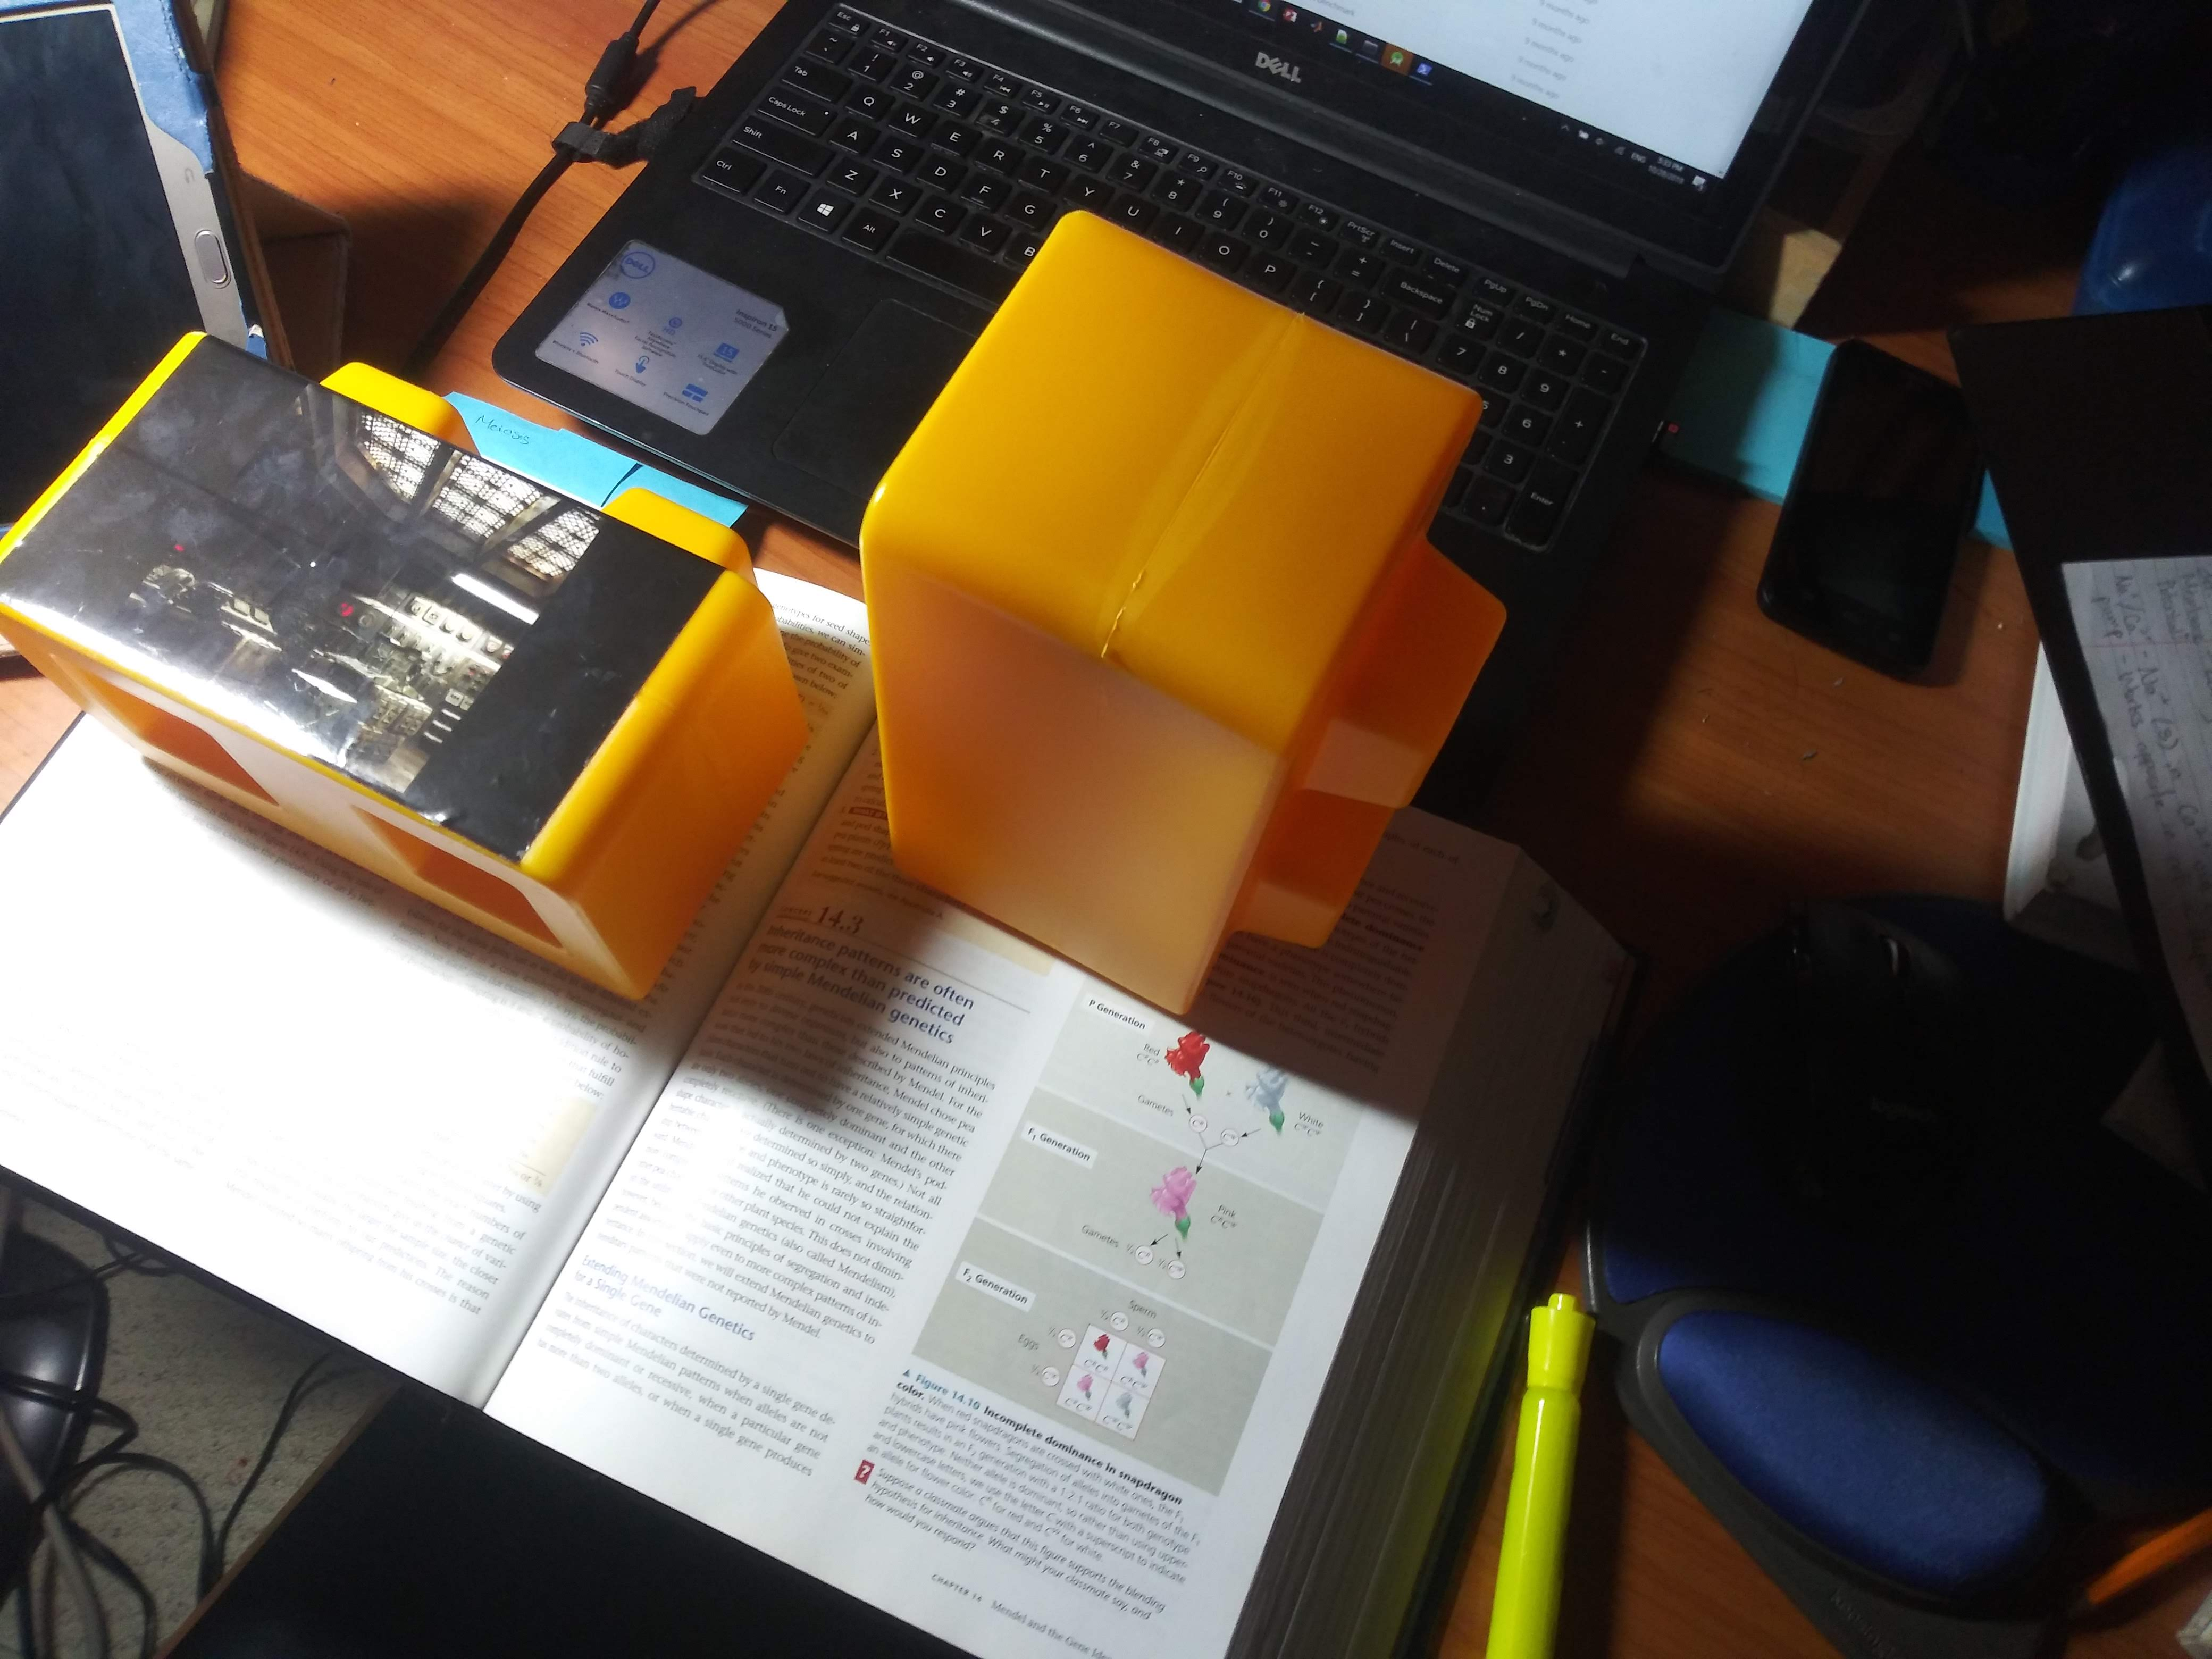skystone: (24, 396, 718, 816)
stone: (927, 270, 1413, 1009)
